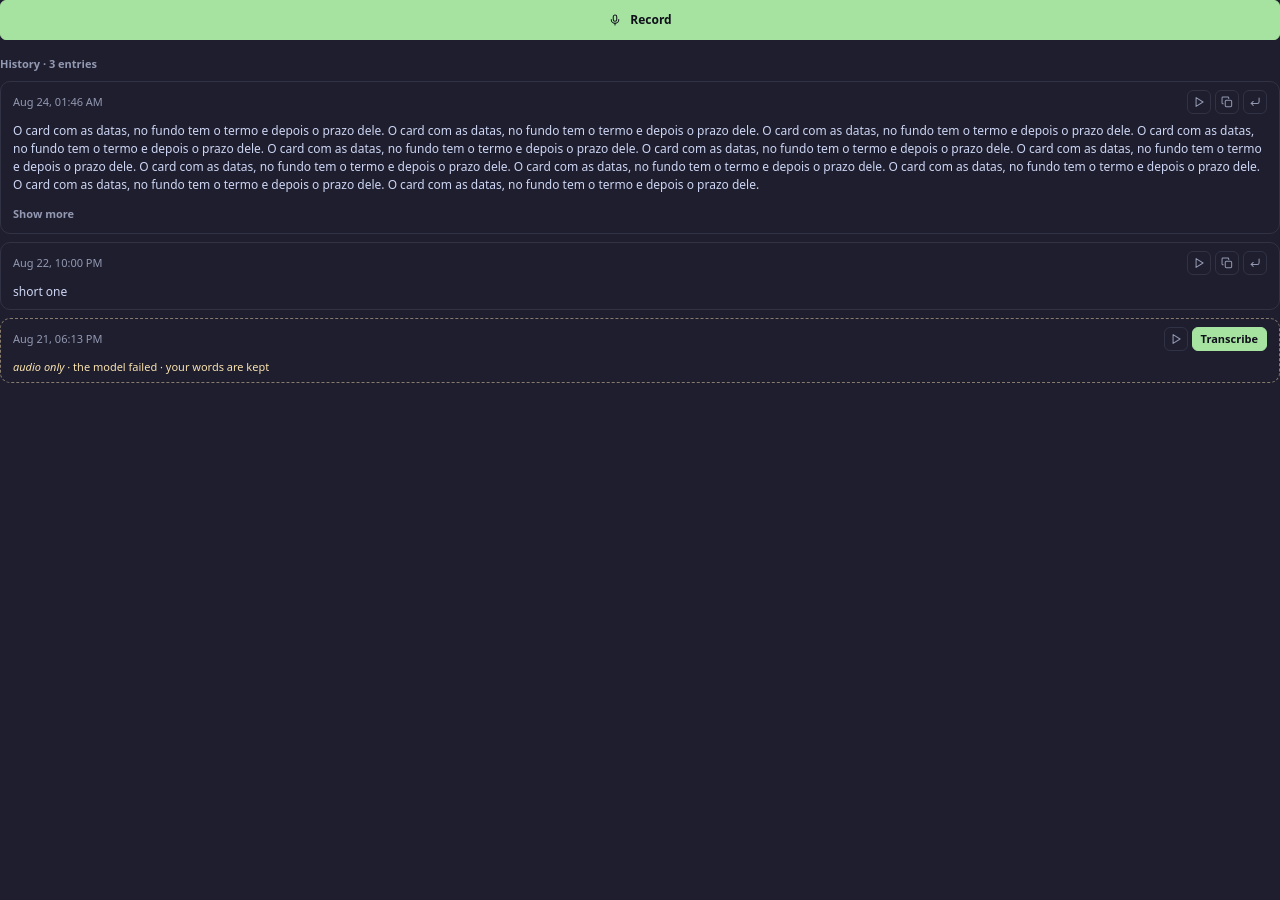
Test: DictationView card layout › clamps a long transcript and lets the toggle expand and collapse it
Expected: the element with test id "dv-card-20260901-2200" is shown, [0,80,1279,234]
Step 1. Click the button with test id "dv-toggle-20260901-2200" → (44, 213), box [13,202,74,225]
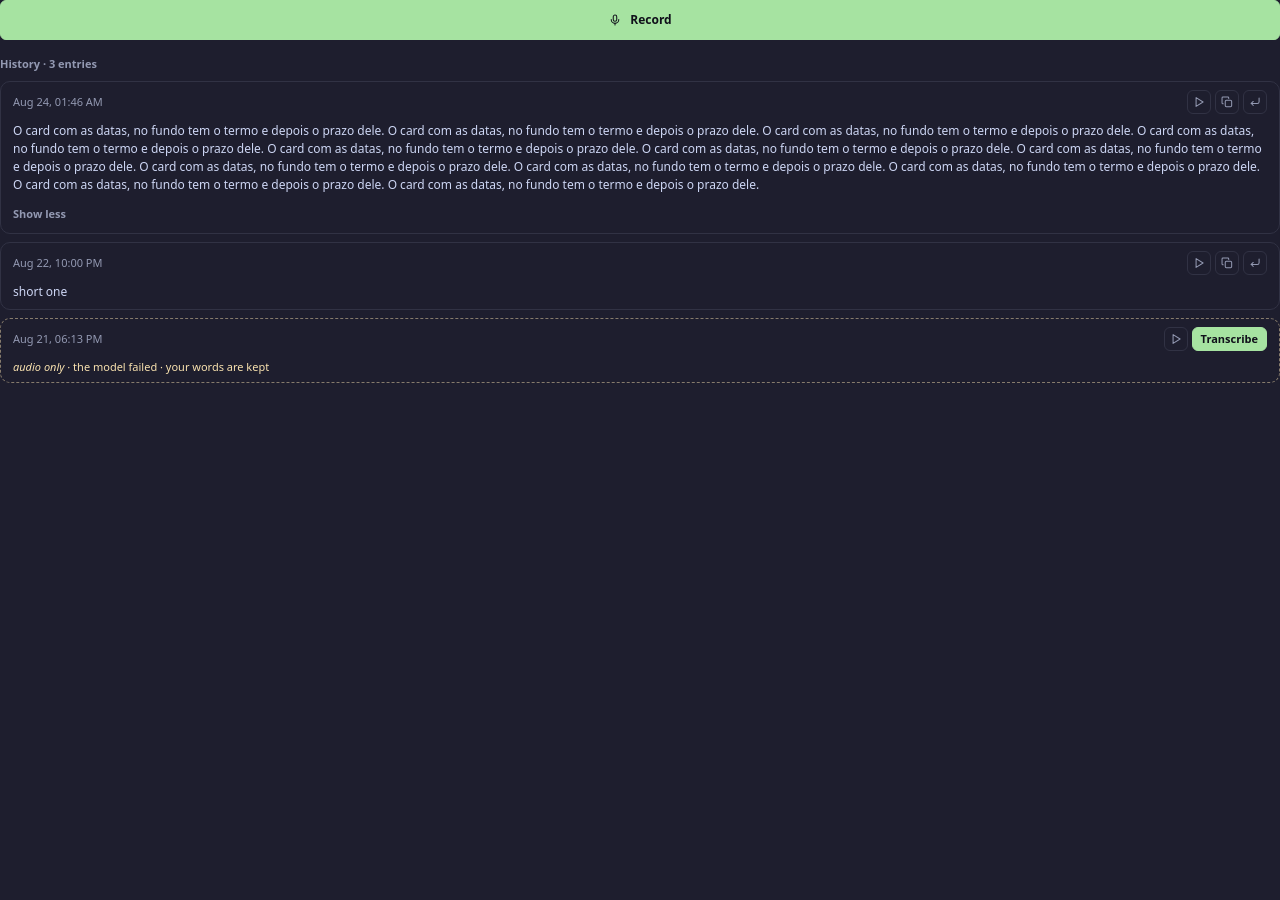
Expected: the button with test id "dv-toggle-20260901-2200" reads "Show less"
Expected: the button with test id "dv-toggle-20260901-2200" is expanded
Step 2. Click the button with test id "dv-toggle-20260901-2200" → (40, 213), box [13,202,66,225]
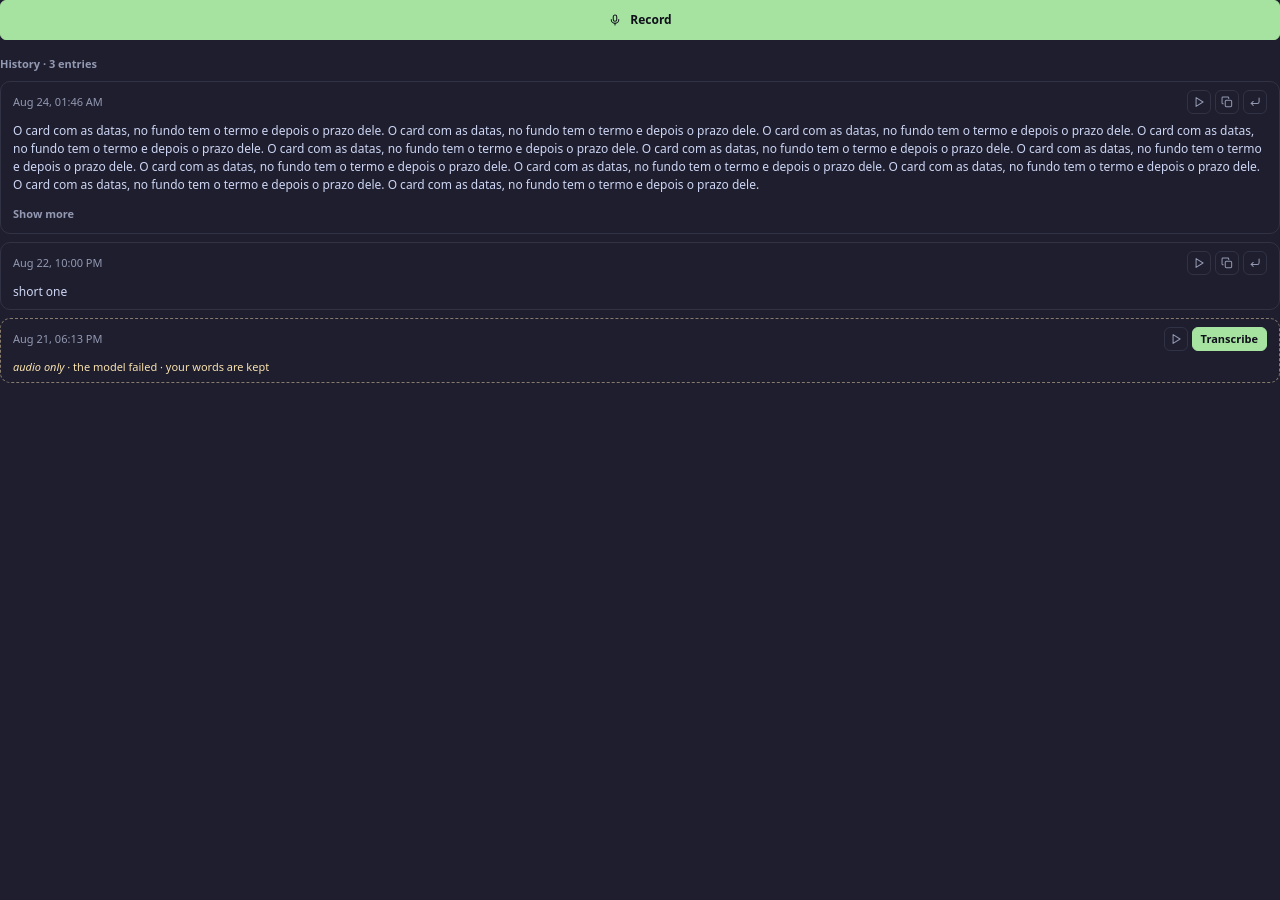
Expected: the button with test id "dv-toggle-20260901-2200" reads "Show more", [13,202,74,225]
